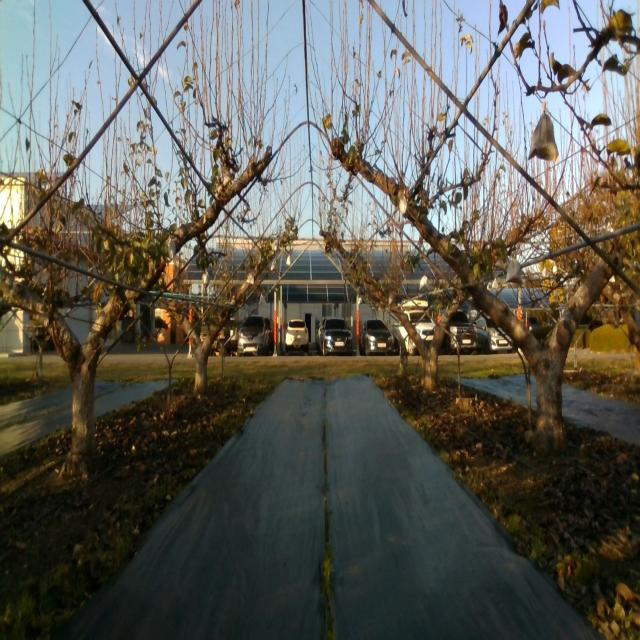pearbags: (528, 111, 559, 164), (505, 258, 522, 284)
